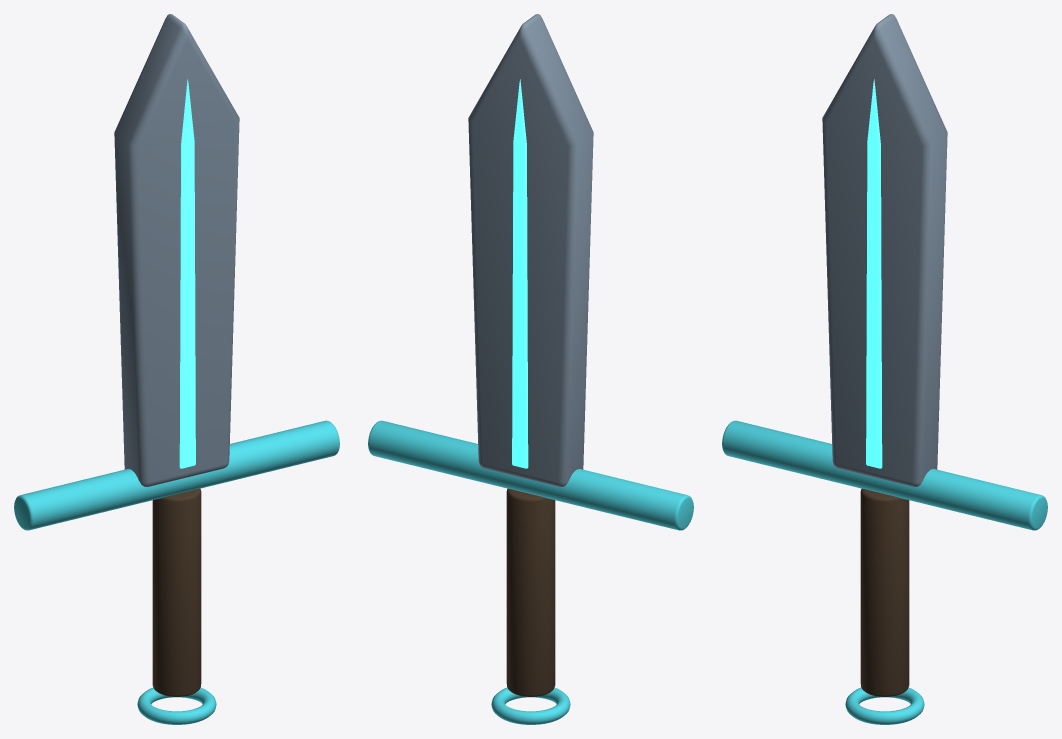
File: sword_v3.glb
The picture shows the model from 3 angles, left to right: view 1: azimuth 30°, elevation 25°; view 2: azimuth 150°, elevation 25°; view 3: azimuth 330°, elevation 25°; orthographic projection.
Visible parts, largest first — view 1: GREATSWORD_BLADE_PRIMARY, CROSSGUARD_ACCENT, GRIP_SECONDARY, GREATSWORD_FULLER_EMISSIVE, POMMEL_ACCENT; view 2: GREATSWORD_BLADE_PRIMARY, CROSSGUARD_ACCENT, GRIP_SECONDARY, GREATSWORD_FULLER_EMISSIVE, POMMEL_ACCENT; view 3: GREATSWORD_BLADE_PRIMARY, CROSSGUARD_ACCENT, GRIP_SECONDARY, GREATSWORD_FULLER_EMISSIVE, POMMEL_ACCENT.
Part boxes in pixels (x1=…): GREATSWORD_BLADE_PRIMARY: x1=114, y1=14, x2=239, y2=486; CROSSGUARD_ACCENT: x1=14, y1=420, x2=339, y2=530; GRIP_SECONDARY: x1=152, y1=488, x2=201, y2=696; GREATSWORD_FULLER_EMISSIVE: x1=179, y1=79, x2=195, y2=468; POMMEL_ACCENT: x1=137, y1=687, x2=216, y2=724; GREATSWORD_BLADE_PRIMARY: x1=468, y1=14, x2=593, y2=486; CROSSGUARD_ACCENT: x1=368, y1=420, x2=693, y2=530; GRIP_SECONDARY: x1=506, y1=488, x2=555, y2=696; GREATSWORD_FULLER_EMISSIVE: x1=512, y1=79, x2=528, y2=468; POMMEL_ACCENT: x1=491, y1=687, x2=570, y2=724; GREATSWORD_BLADE_PRIMARY: x1=822, y1=14, x2=947, y2=486; CROSSGUARD_ACCENT: x1=722, y1=420, x2=1047, y2=530; GRIP_SECONDARY: x1=860, y1=488, x2=909, y2=696; GREATSWORD_FULLER_EMISSIVE: x1=866, y1=79, x2=882, y2=468; POMMEL_ACCENT: x1=845, y1=687, x2=924, y2=724.
Bounding box in the file's own units: 2.36 × 5.04 × 0.522.
